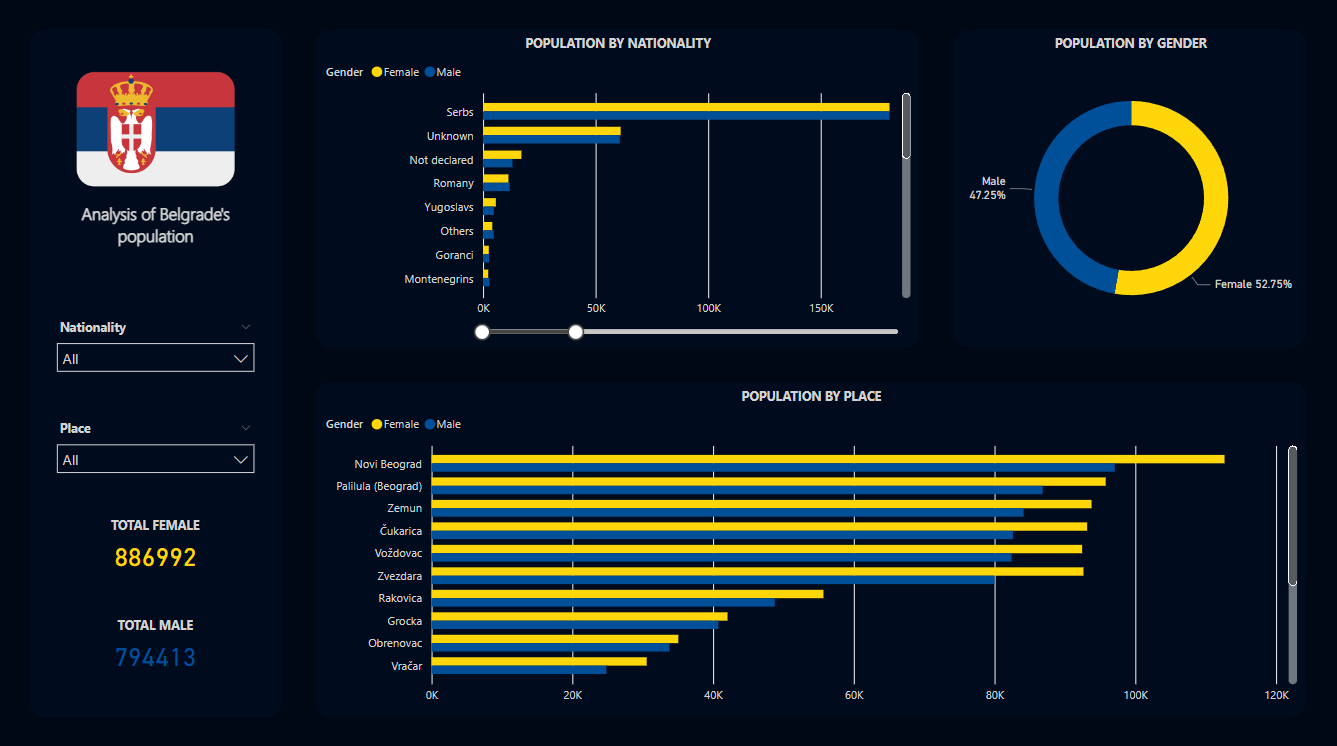

What the dashboard file says about the page in this screenshot:
{"tool":"powerbi","page":{"name":"Page 1","canvas":[1280,720],"ordinal":0},"visuals":[{"type":"donutChart","title":"POPULATION BY GENDER","fields":{"Y":["Sum(Popis.Count)"],"Category":["Popis.Gender"]},"box":[912,32,336,304],"z":0},{"type":"clusteredBarChart","title":"POPULATION BY NATIONALITY","fields":{"Category":["Popis.Nationality"],"Y":["Sum(Popis.Count)"],"Series":["Popis.Gender"]},"box":[304,32,576,304],"z":1000},{"type":"clusteredBarChart","title":"POPULATION BY PLACE","fields":{"Category":["Popis.Place"],"Y":["Sum(Popis.Count)"],"Series":["Popis.Gender"]},"box":[304,368,944,320],"z":2000},{"type":"shape","box":[32,32,240,656],"z":3000},{"type":"slicer","fields":{"Values":["Popis.Nationality"]},"box":[48,304,208,64],"z":4000},{"type":"slicer","fields":{"Values":["Popis.Place"]},"box":[48,400,208,64],"z":5000},{"type":"card","title":"TOTAL FEMALE","fields":{"Values":["Popis.TotalFemaleCount"]},"box":[48,496,208,64],"z":6000},{"type":"card","title":"TOTAL MALE","fields":{"Values":["Popis.TotalMaleCount"]},"box":[48,592,208,64],"z":7000},{"type":"image","box":[0,48,304,160],"z":8000},{"type":"textbox","box":[0,192,304,64],"z":9000}]}

Visuals, with their boxes in screenshot pixels (x1, y1, x2, y2), scaled from the page's 1280x720 canvas onto the 1337x746 screenshot:
"POPULATION BY GENDER" donutChart: region(953, 33, 1304, 348)
"POPULATION BY NATIONALITY" clusteredBarChart: region(318, 33, 919, 348)
"POPULATION BY PLACE" clusteredBarChart: region(318, 381, 1304, 713)
shape: region(33, 33, 284, 713)
slicer - Popis.Nationality: region(50, 315, 267, 381)
slicer - Popis.Place: region(50, 414, 267, 481)
"TOTAL FEMALE" card: region(50, 514, 267, 580)
"TOTAL MALE" card: region(50, 613, 267, 680)
image: region(0, 50, 318, 216)
textbox: region(0, 199, 318, 265)
